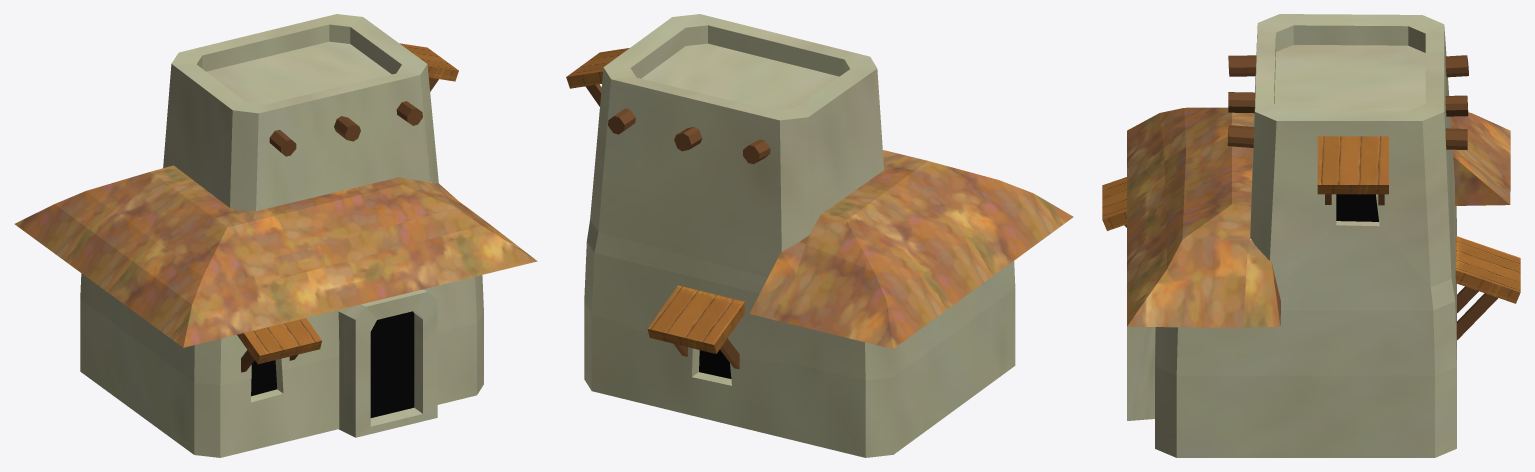
Rendered from Big House (1).fbx.
3 views of the same model, side by side, from view 1: azimuth 30°, elevation 25°; view 2: azimuth 150°, elevation 25°; view 3: azimuth 270°, elevation 25° (orthographic). The views are drawn at different scales.
Visible parts, largest first — view 1: Cube.014, Cube.015, Cube.016, Cube.019; view 2: Cube.014, Cube.022, Cube.019; view 3: Cube.014, Cube.019, Cube.022, Cube.015, Cube.016, Cube.023, Cube.055, Cube.053, Cube.054, Cube.052, Cube.051, Cube.050.
Part boxes in pixels (x1,y1,x2,y2): Cube.014: (14, 14, 537, 457); Cube.015: (338, 289, 437, 437); Cube.016: (237, 318, 321, 364); Cube.019: (399, 43, 458, 81); Cube.014: (584, 14, 1073, 457); Cube.022: (647, 285, 744, 353); Cube.019: (566, 48, 629, 88); Cube.014: (1127, 14, 1510, 457); Cube.019: (1317, 136, 1388, 194); Cube.022: (1455, 236, 1520, 303); Cube.015: (1127, 326, 1154, 420); Cube.016: (1102, 177, 1126, 230); Cube.023: (1457, 293, 1497, 339); Cube.055: (1228, 55, 1256, 76); Cube.053: (1227, 125, 1254, 147); Cube.054: (1228, 92, 1255, 113); Cube.052: (1445, 55, 1468, 77); Cube.051: (1445, 95, 1468, 116); Cube.050: (1445, 128, 1467, 149).
Bounding box in the file's own units: 1347 × 1044 × 1196.
6 materials, 4 textured.
